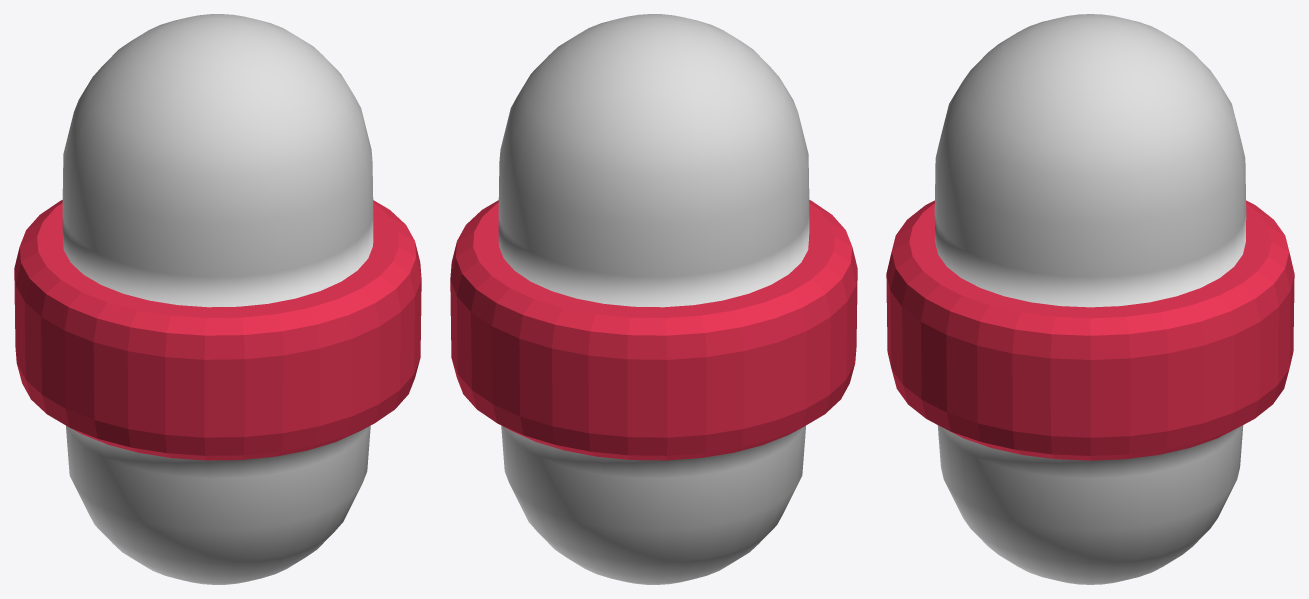
File: pill.fbx
3 views of the same model, side by side, from view 1: azimuth 30°, elevation 25°; view 2: azimuth 150°, elevation 25°; view 3: azimuth 270°, elevation 25° (orthographic).
Parts seen in each view (by area): view 1: pillMesh; view 2: pillMesh; view 3: pillMesh.
Boxes of the visible parts, x1,y1,x2,y2 form: pillMesh: (14,14,421,584); pillMesh: (450,14,857,584); pillMesh: (886,14,1294,584).
Bounding box in the file's own units: 37.45 × 54.88 × 37.45.
